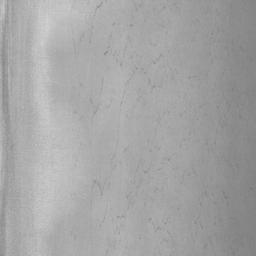Silk spot: (91, 178, 111, 196)
